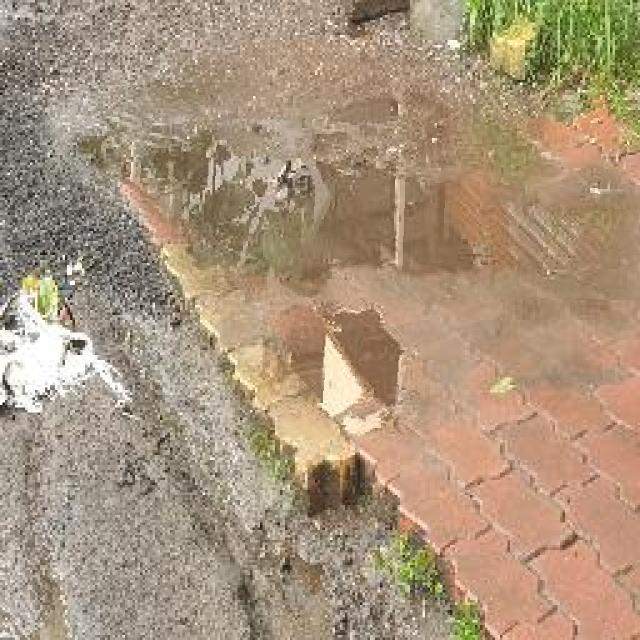puddle: (70, 90, 640, 296), (283, 300, 414, 441)
